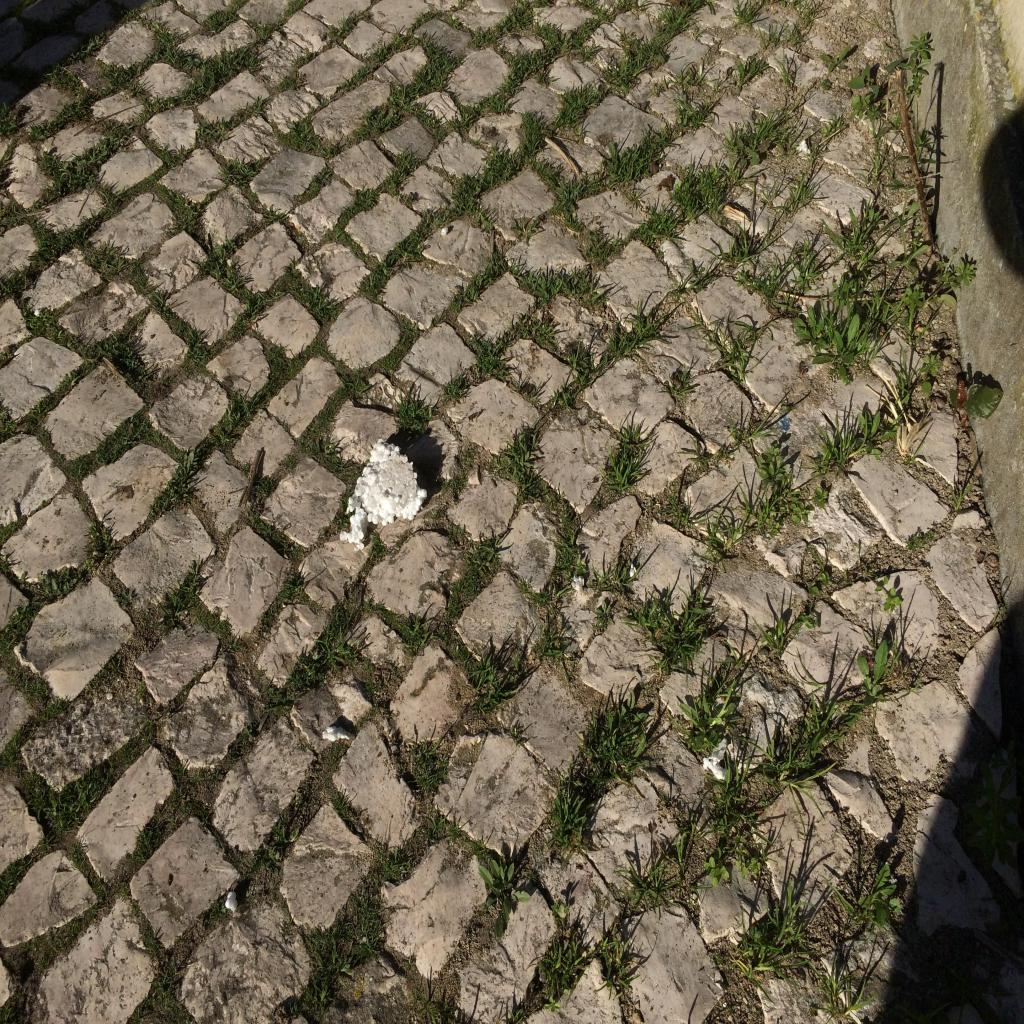Styrofoam piece: (339, 438, 427, 552), (703, 758, 724, 780), (322, 727, 351, 741), (226, 891, 237, 912), (571, 574, 584, 590)
